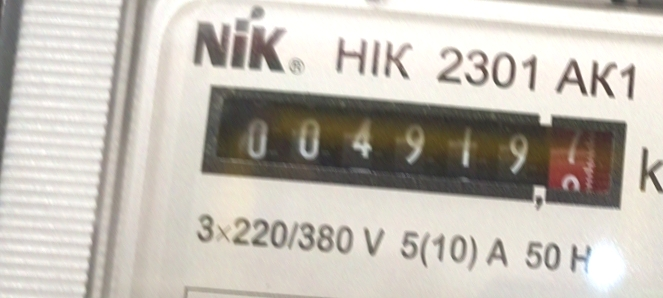0: (294, 115, 324, 162), (243, 115, 271, 161)
1: (457, 124, 476, 170)
4: (348, 115, 376, 160)
7: (559, 126, 585, 167)
9: (504, 130, 531, 178), (401, 122, 428, 168)
screen: (188, 71, 646, 229)
